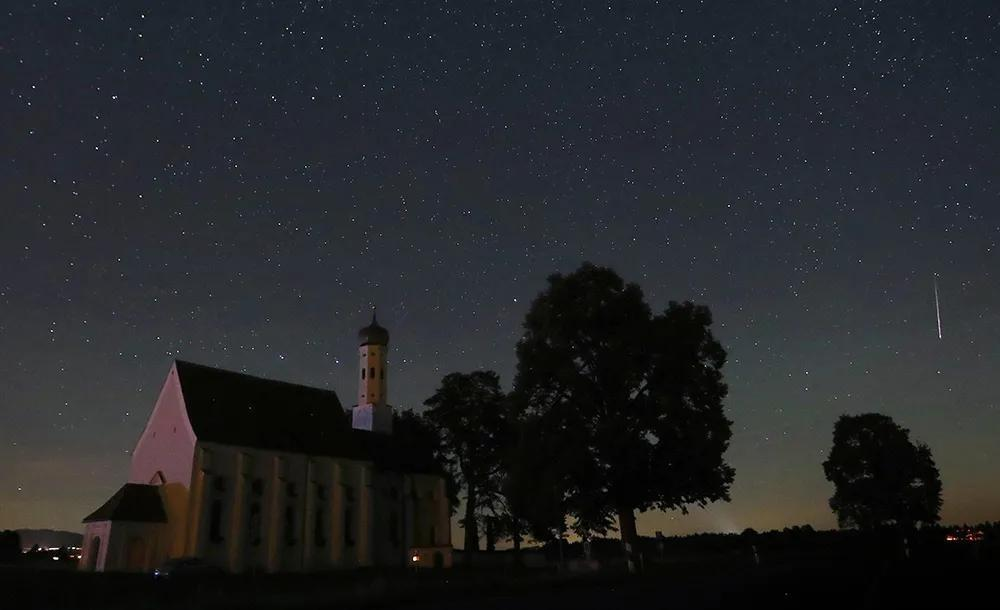meteorite: (922, 267, 949, 345)
